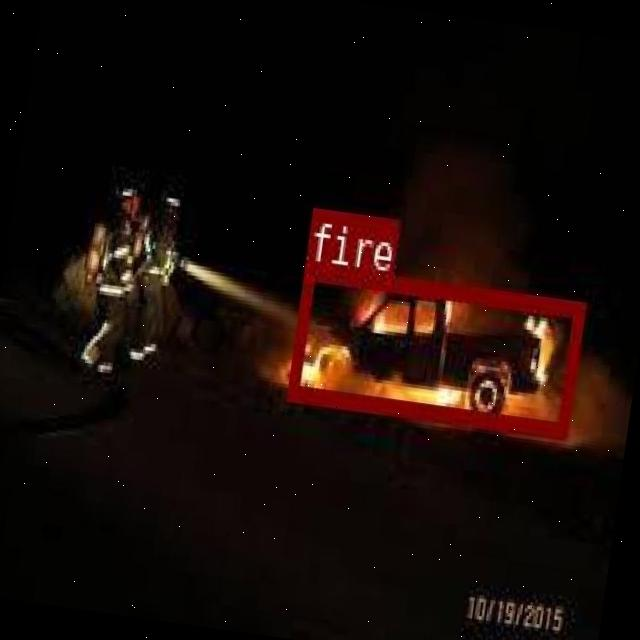fire: (285, 261, 583, 435)
